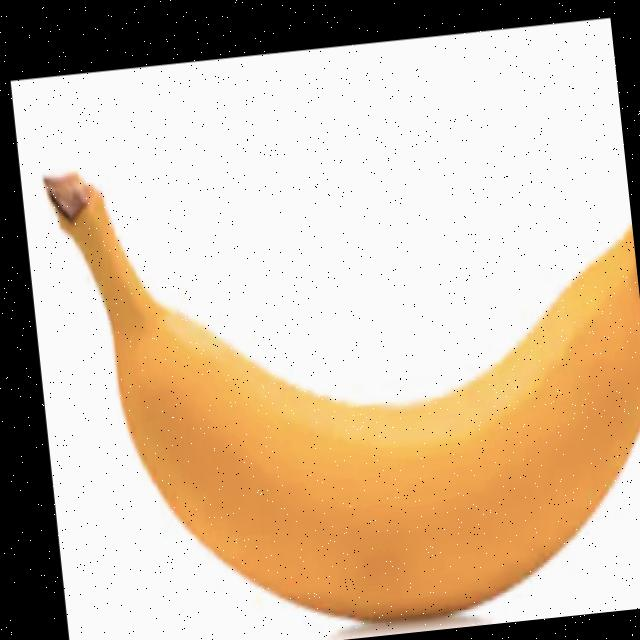Ripe: (33, 77, 640, 640)
